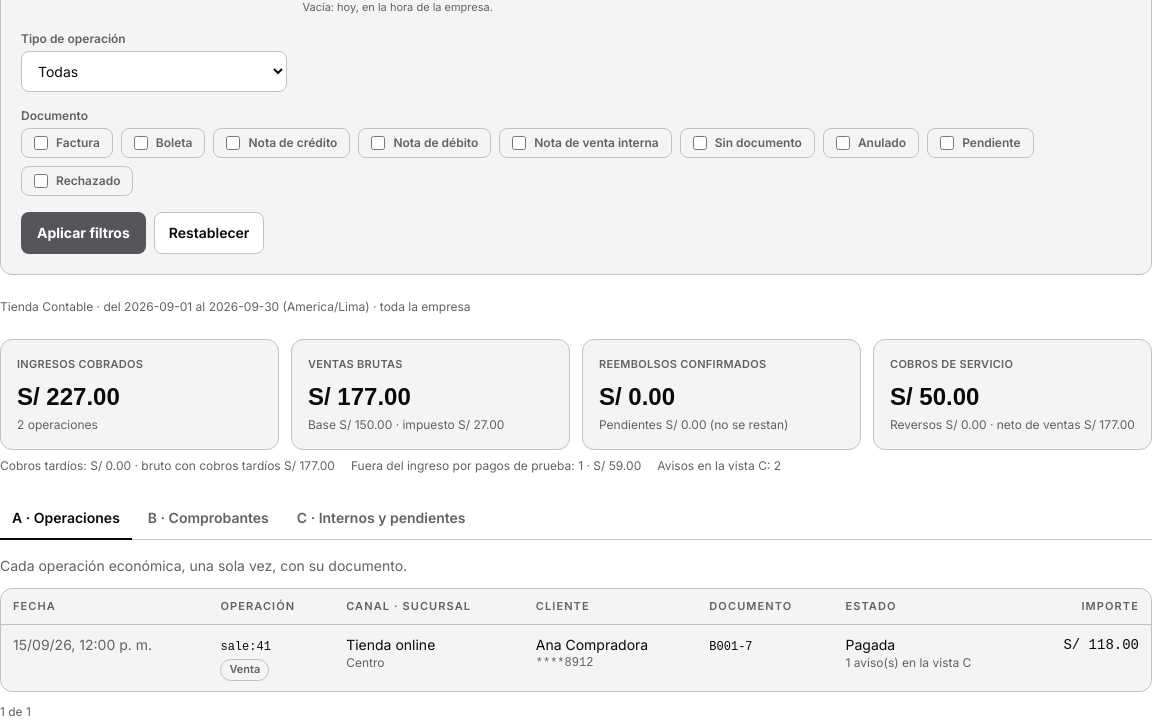
Test: review of #177 › does not ask for the summary of a period it cannot answer
(page scrolled)
Expected: the link "sale:41" is shown, x1=220 y1=640 x2=271 y2=654
Click the tab "B · Comprobantes": (208, 519) x1=136 y1=498 x2=281 y2=540
(page scrolled)
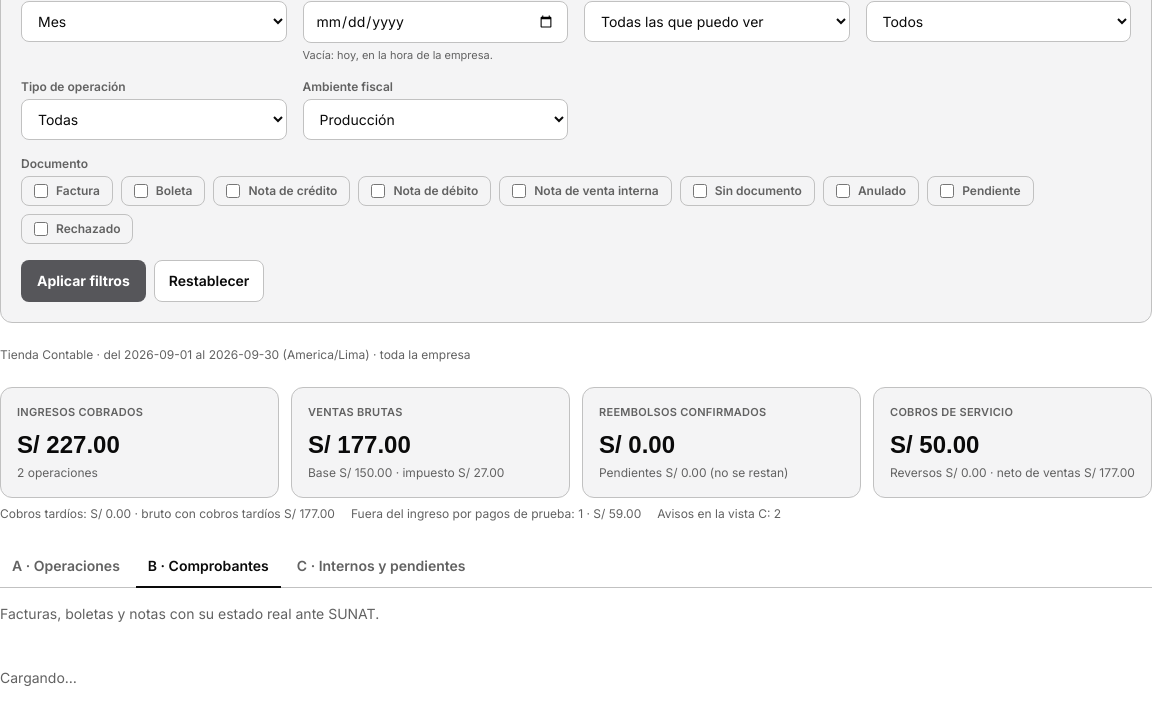
Expected: the dropdown labelled "Ambiente fiscal" is shown, x1=302 y1=99 x2=568 y2=140
Select "Año" in the dropdown labelled "Período": (154, 21) x1=21 y1=1 x2=286 y2=42
(page scrolled)
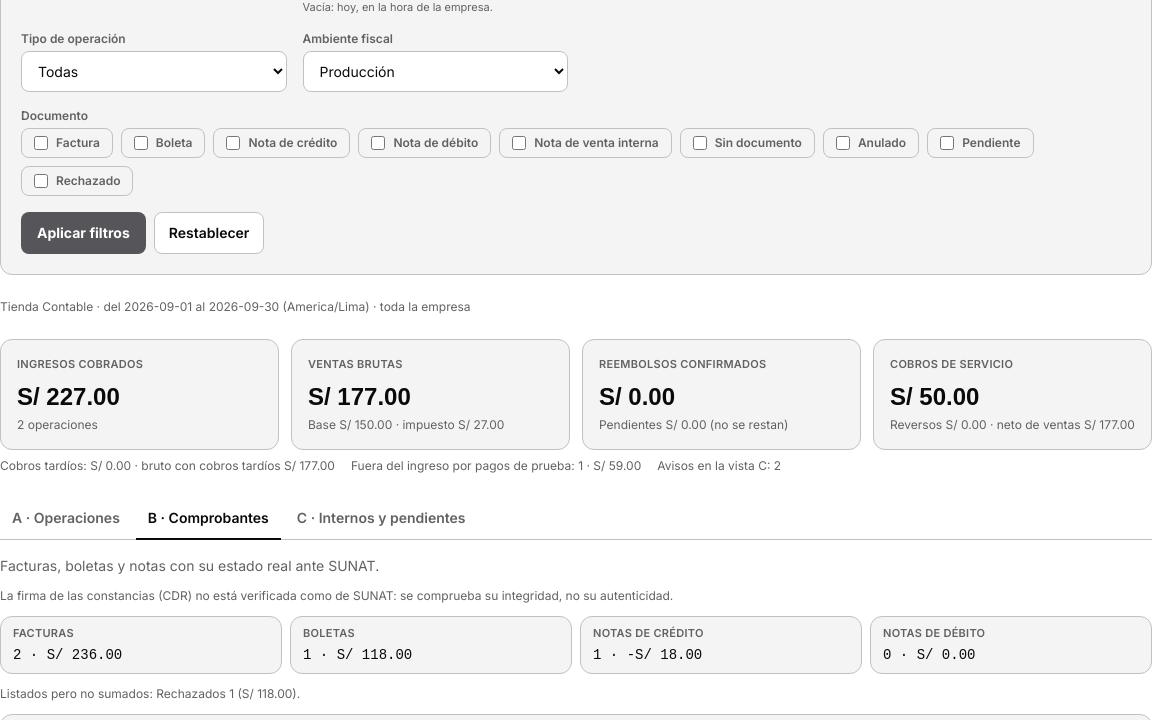
Click the button "Aplicar filtros": (83, 233) x1=21 y1=212 x2=146 y2=254
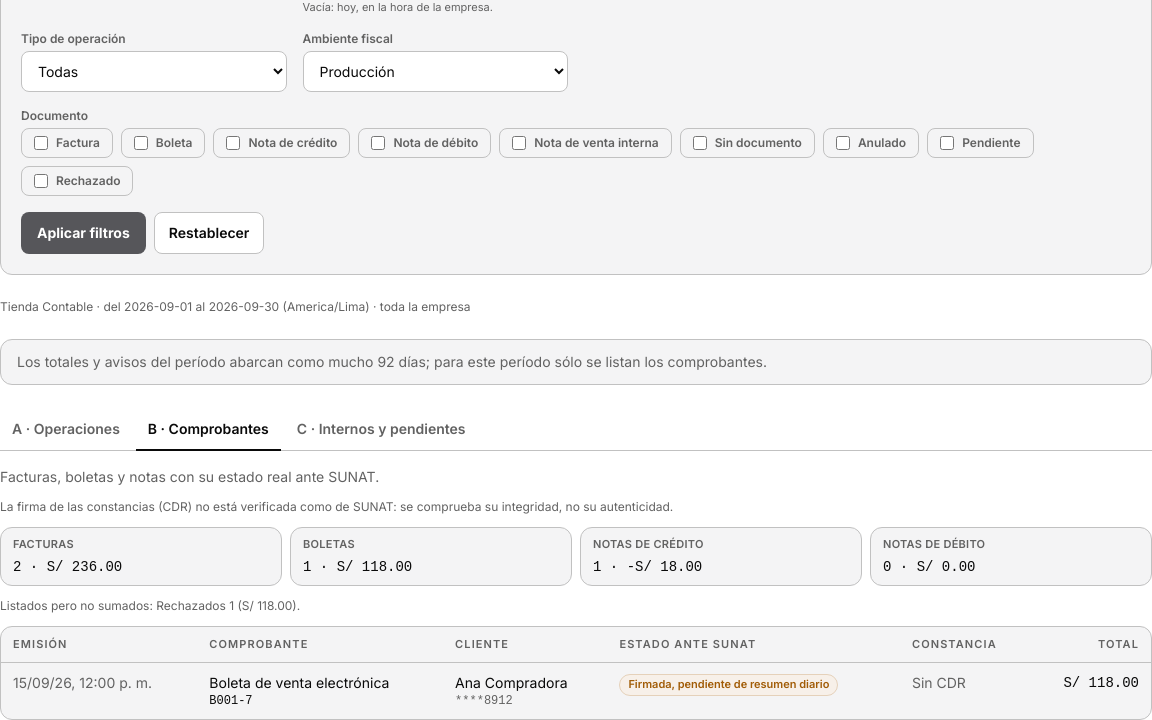
Expected: the text with test id "accounting-summary-note" is shown, x1=0 y1=339 x2=1151 y2=385
